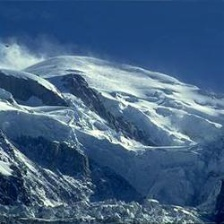neutral: (6, 4, 222, 218)
